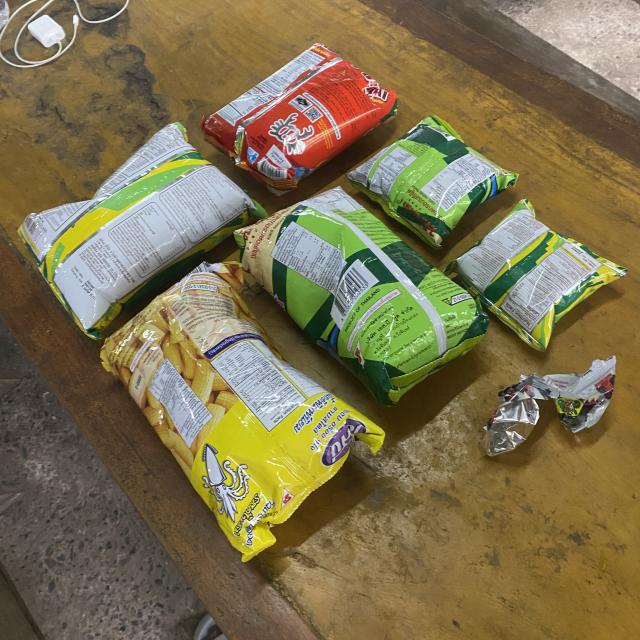plastik: (101, 262, 384, 561), (235, 188, 489, 405), (19, 122, 265, 338), (200, 42, 398, 195), (445, 199, 628, 351), (348, 116, 518, 249), (482, 356, 616, 456)
